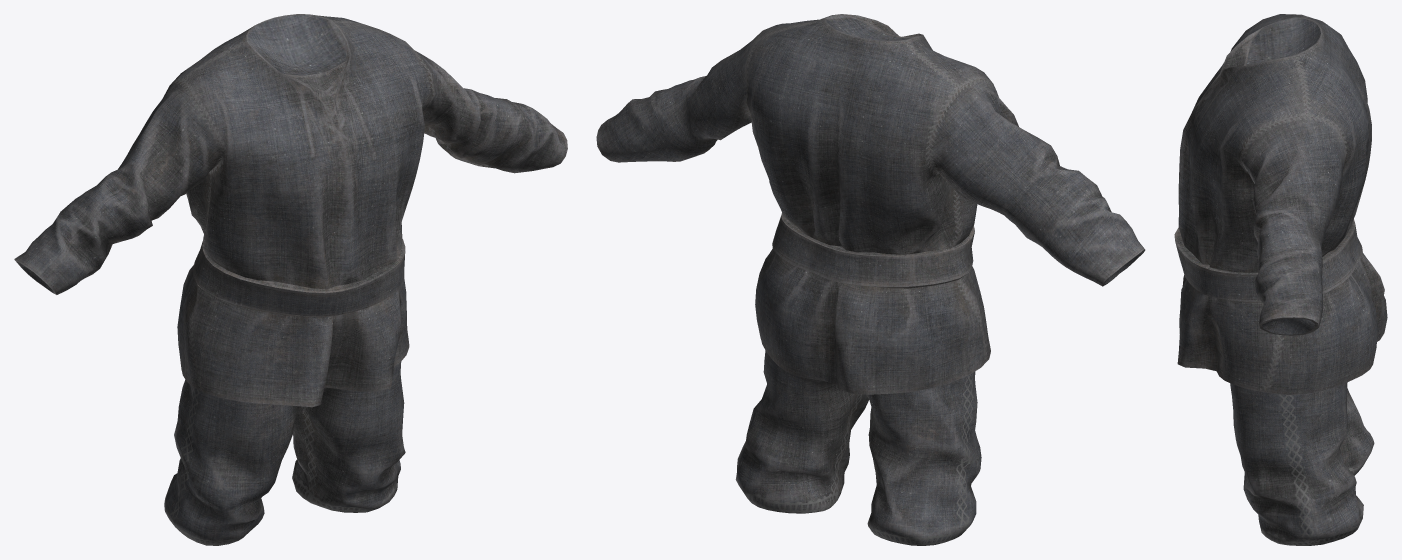
File: sk_dwarf_tunic_normal_a.fbx
The picture shows the model from 3 angles, left to right: view 1: azimuth 30°, elevation 25°; view 2: azimuth 150°, elevation 25°; view 3: azimuth 270°, elevation 25°; orthographic projection. The views are drawn at different scales.
Parts seen in each view (by area): view 1: sk_dwarf_tunic_normal_a; view 2: sk_dwarf_tunic_normal_a; view 3: sk_dwarf_tunic_normal_a.
Boxes of the visible parts, x1,y1,x2,y2 form: sk_dwarf_tunic_normal_a: [14, 14, 567, 545]; sk_dwarf_tunic_normal_a: [596, 14, 1145, 545]; sk_dwarf_tunic_normal_a: [1174, 14, 1387, 545].
Bounding box in the file's own units: 1.16 × 0.4158 × 1.01.
1 material, 1 textured.
